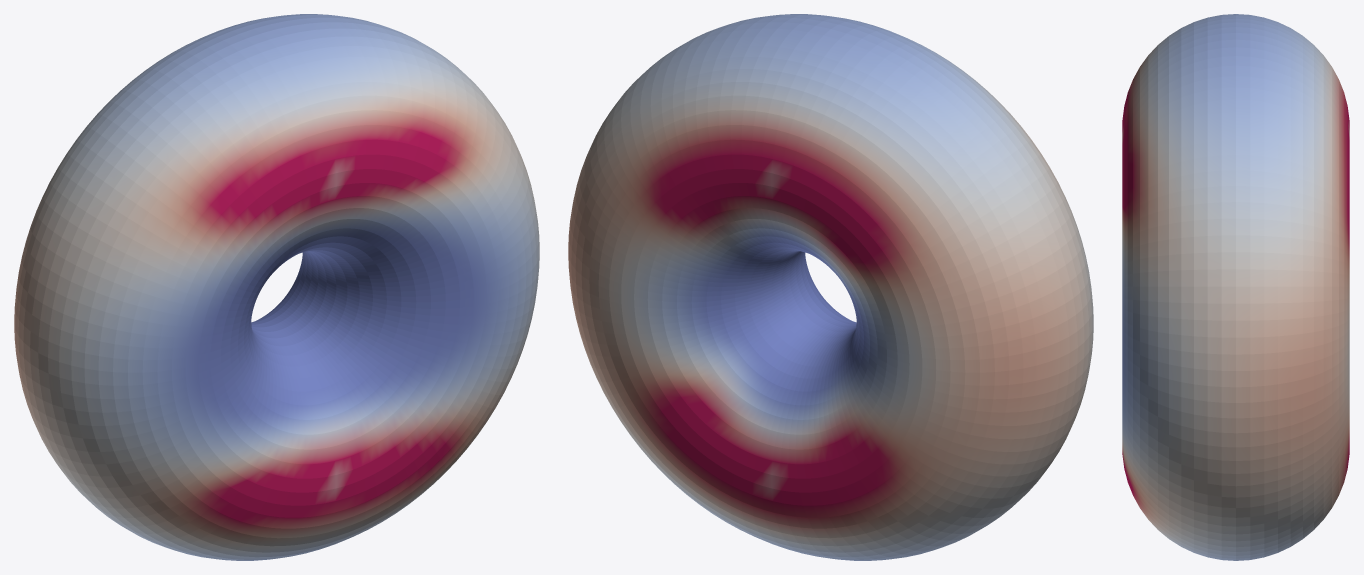
3 renders of one model, left to right at view 1: azimuth 30°, elevation 25°; view 2: azimuth 150°, elevation 25°; view 3: azimuth 270°, elevation 25°, orthographic. The views are drawn at different scales.
Visible parts, largest first — view 1: world; view 2: world; view 3: world.
Boxes of the visible parts, <box> form: world: <box>14,14,539,560</box>; world: <box>568,14,1093,560</box>; world: <box>1122,14,1349,560</box>.
Size of the model in its own units: 18.27 by 18.27 by 7.59.
